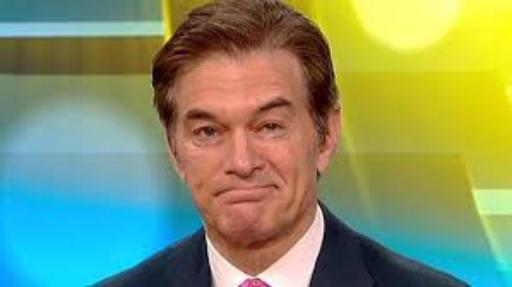left_eye: (257, 123, 288, 136)
left_lip_corner: (269, 184, 286, 193)
right_eye: (192, 126, 225, 139)
right_lip_corner: (209, 190, 226, 199)
